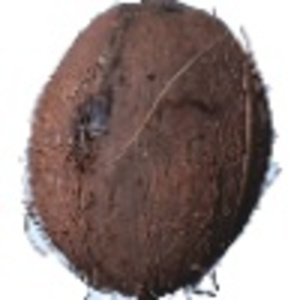coco: (23, 1, 281, 300)
